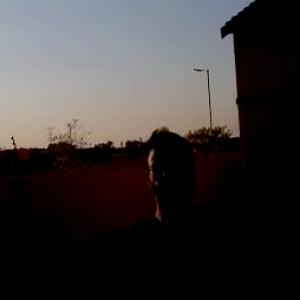follow: (110, 126, 259, 299)
